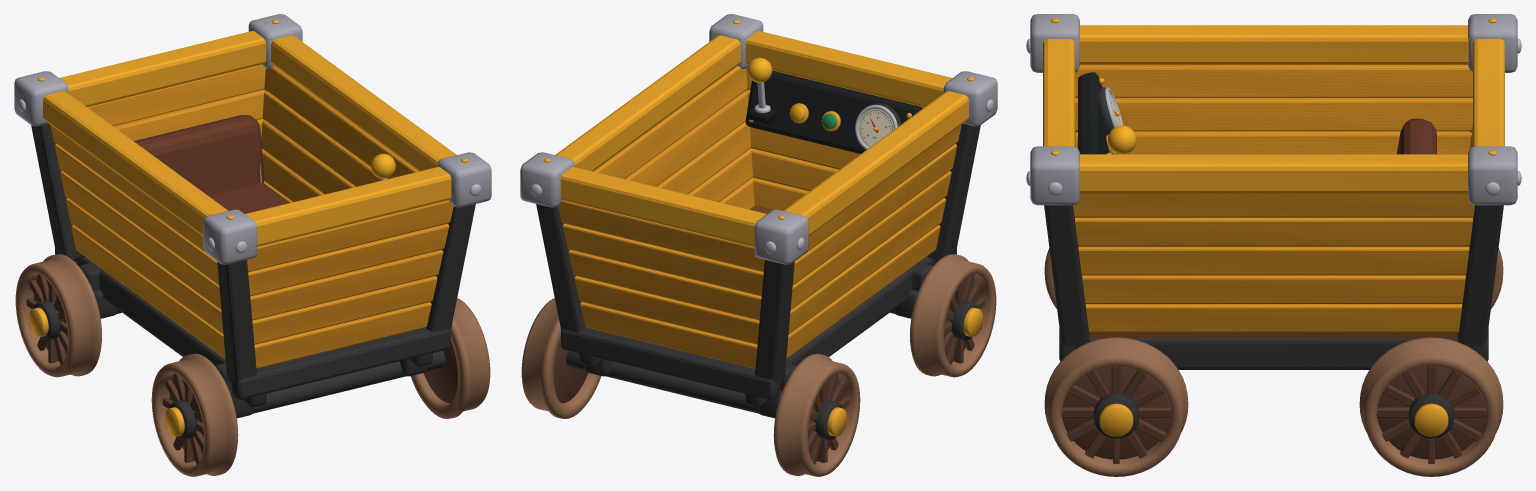
File: Vehicle_Minecart_GoldenOak_001.glb
3 views of the same model, side by side, from view 1: azimuth 30°, elevation 25°; view 2: azimuth 150°, elevation 25°; view 3: azimuth 270°, elevation 25° (orthographic). The views are drawn at different scales.
Visible parts, largest first — view 1: GoldenOak_Body, GoldenOak_Wheel_RL, GoldenOak_Wheel_FL, GoldenOak_Wheel_FR, GoldenOak_Lever; view 2: GoldenOak_Body, GoldenOak_Wheel_FL, GoldenOak_Wheel_RL, GoldenOak_Wheel_RR, GoldenOak_Lever; view 3: GoldenOak_Body, GoldenOak_Wheel_FR, GoldenOak_Wheel_RR, GoldenOak_Lever.
Part boxes in pixels (x1,y1,x2,y2): GoldenOak_Body: (14, 14, 491, 418); GoldenOak_Wheel_RL: (15, 254, 101, 377); GoldenOak_Wheel_FL: (151, 353, 238, 476); GoldenOak_Wheel_FR: (410, 298, 490, 418); GoldenOak_Lever: (370, 153, 395, 180); GoldenOak_Body: (520, 14, 997, 418); GoldenOak_Wheel_FL: (910, 254, 996, 377); GoldenOak_Wheel_RL: (773, 353, 860, 476); GoldenOak_Wheel_RR: (521, 298, 601, 418); GoldenOak_Lever: (747, 57, 772, 112); GoldenOak_Body: (1026, 14, 1521, 369); GoldenOak_Wheel_FR: (1044, 337, 1188, 476); GoldenOak_Wheel_RR: (1359, 337, 1503, 476); GoldenOak_Lever: (1107, 125, 1136, 154).
Size of the model in its own units: 2.05 by 1.8 by 2.55.
1 material, 1 textured.
